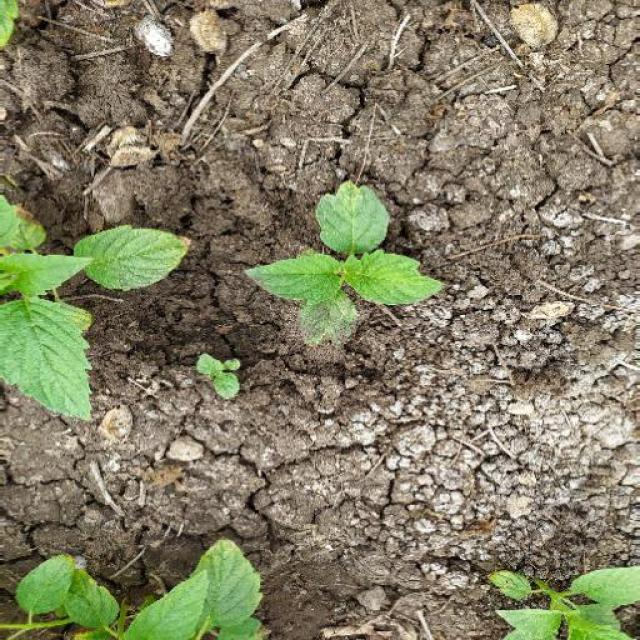crop: (1, 163, 192, 425), (248, 178, 447, 368)
